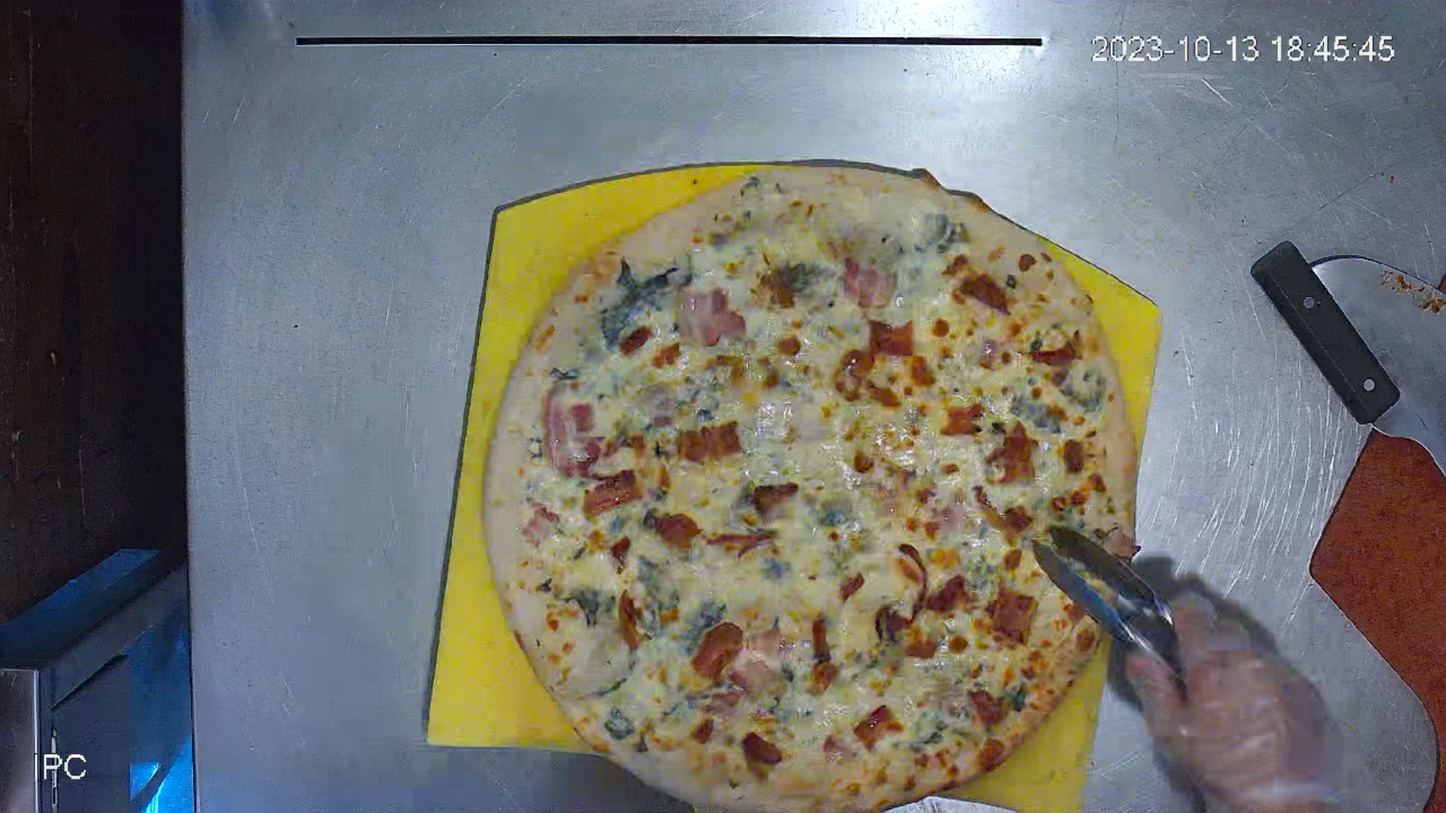bianca: (478, 154, 1135, 805)
